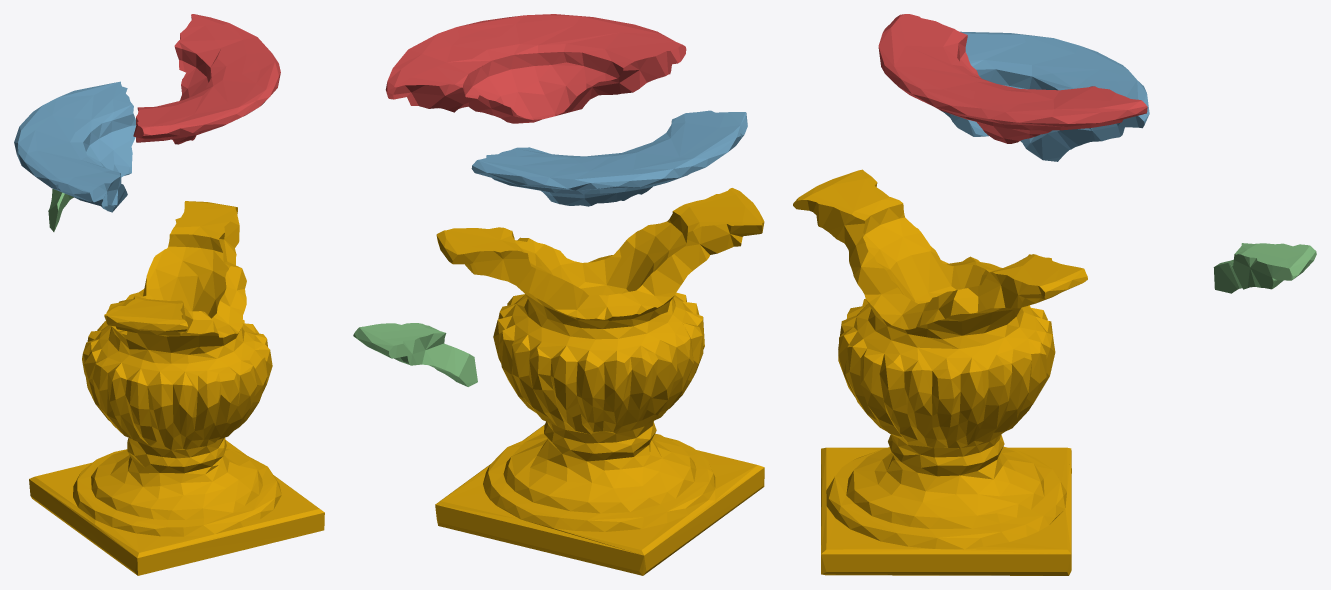
Rendered from mode_3_4pcs_transformed.glb.
3 renders of one model, left to right at view 1: azimuth 30°, elevation 25°; view 2: azimuth 150°, elevation 25°; view 3: azimuth 270°, elevation 25°, orthographic. The views are drawn at different scales.
Visible parts, largest first — view 1: piece_0.obj, piece_2.obj, piece_1.obj, piece_3.obj; view 2: piece_0.obj, piece_1.obj, piece_2.obj, piece_3.obj; view 3: piece_0.obj, piece_1.obj, piece_2.obj, piece_3.obj.
Part boxes in pixels (x1,y1,x2,y2): piece_0.obj: (29,201,324,575); piece_2.obj: (14,81,136,212); piece_1.obj: (133,14,280,144); piece_3.obj: (48,189,73,231); piece_0.obj: (435,188,764,575); piece_1.obj: (385,14,686,123); piece_2.obj: (471,110,747,206); piece_3.obj: (353,323,477,386); piece_0.obj: (793,169,1087,575); piece_1.obj: (878,14,1147,143); piece_2.obj: (941,31,1149,161); piece_3.obj: (1213,243,1316,293).
Size of the model in its own units: 1 by 1.55 by 1.53.
